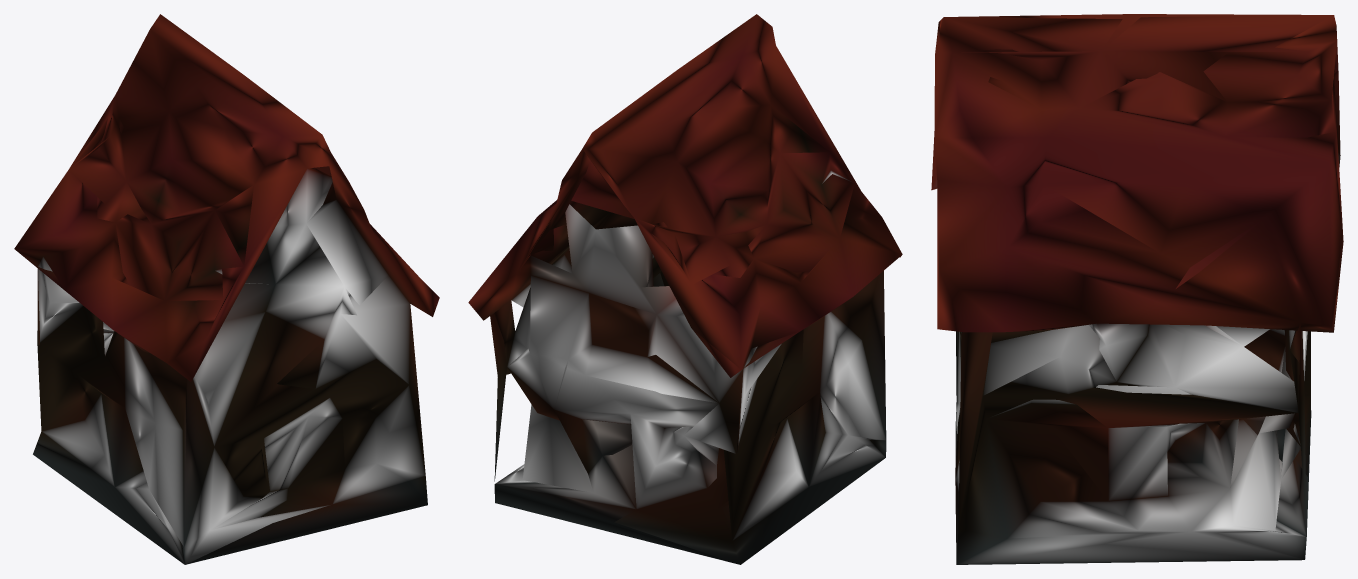
File: gen3d-timber-house-lod1.glb
3 views of the same model, side by side, from view 1: azimuth 30°, elevation 25°; view 2: azimuth 150°, elevation 25°; view 3: azimuth 270°, elevation 25° (orthographic). The views are drawn at different scales.
Visible parts, largest first — view 1: part_0; view 2: part_0; view 3: part_0.
Part boxes in pixels (left/top/right/bottom): part_0: left=14, top=14, right=439, bottom=564; part_0: left=468, top=14, right=902, bottom=564; part_0: left=931, top=14, right=1343, bottom=564.
Size of the model in its own units: 0.7197 by 0.9968 by 0.766.
